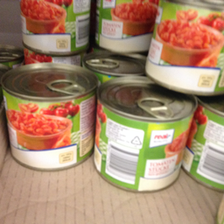tomato_sauce: (96, 76, 197, 193), (2, 62, 97, 172), (143, 1, 224, 98), (19, 1, 91, 53)
